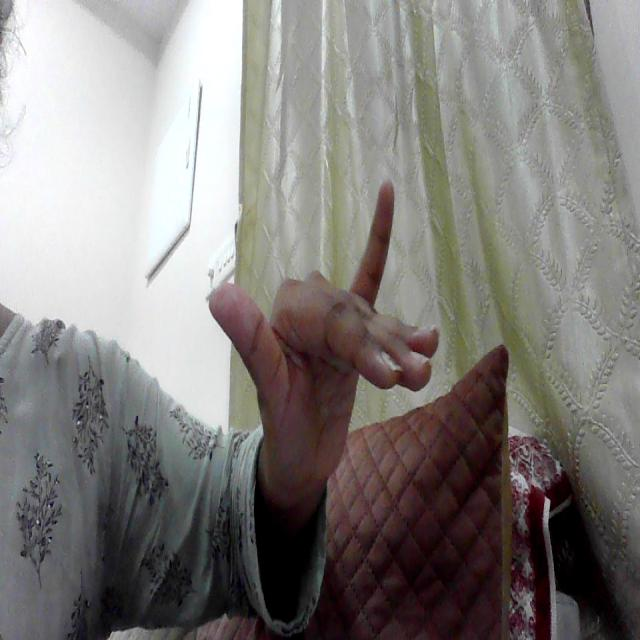Hamsapaksha: (199, 164, 455, 481)
